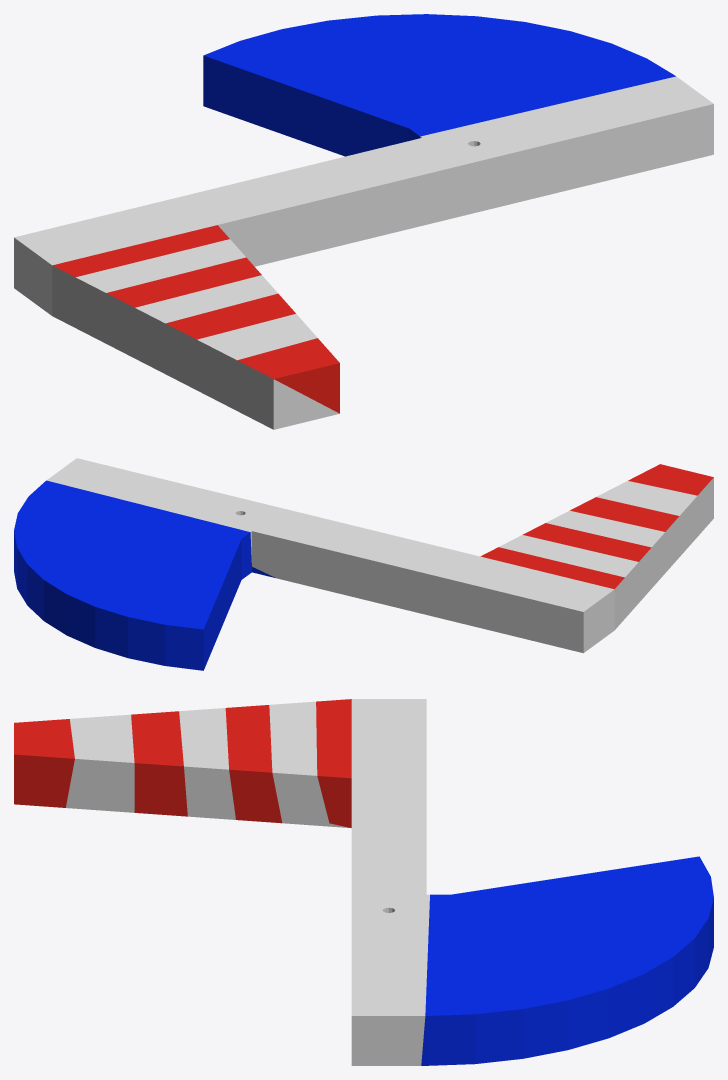
Rendered from manchon_bleu.dae.
3 renders of one model, top to bottom at view 1: azimuth 30°, elevation 25°; view 2: azimuth 150°, elevation 25°; view 3: azimuth 270°, elevation 25°, orthographic. The views are drawn at different scales.
Visible parts, largest first — view 1: Manchon Bleu, Manchon Bleu.001, Manchon Bleu.002, Manchon Bleu.007, Manchon Bleu.006, Manchon Bleu.008, Manchon Bleu.005, Manchon Bleu.003, Manchon Bleu.004; view 2: Manchon Bleu, Manchon Bleu.001, Manchon Bleu.007, Manchon Bleu.006, Manchon Bleu.008, Manchon Bleu.005, Manchon Bleu.003, Manchon Bleu.004, Manchon Bleu.002; view 3: Manchon Bleu.001, Manchon Bleu, Manchon Bleu.003, Manchon Bleu.007, Manchon Bleu.004, Manchon Bleu.006, Manchon Bleu.005, Manchon Bleu.002, Manchon Bleu.008.
Boxes of the visible parts, x1,y1,x2,y2 form: Manchon Bleu: (14,76,713,429); Manchon Bleu.001: (203,14,675,156); Manchon Bleu.002: (237,338,339,413); Manchon Bleu.007: (76,239,245,292); Manchon Bleu.006: (106,257,261,307); Manchon Bleu.008: (52,225,229,277); Manchon Bleu.005: (135,275,277,323); Manchon Bleu.003: (197,314,317,360); Manchon Bleu.004: (165,293,295,339); Manchon Bleu: (46,458,713,653); Manchon Bleu.001: (14,480,275,670); Manchon Bleu.007: (499,535,638,577); Manchon Bleu.006: (522,523,651,561); Manchon Bleu.008: (480,547,624,589); Manchon Bleu.005: (546,510,664,547); Manchon Bleu.003: (596,481,696,515); Manchon Bleu.004: (570,497,679,531); Manchon Bleu.002: (628,464,713,495); Manchon Bleu.001: (421,856,713,1065); Manchon Bleu: (351,699,429,1065); Manchon Bleu.003: (66,714,134,812); Manchon Bleu.007: (269,701,349,827); Manchon Bleu.004: (131,711,187,816); Manchon Bleu.006: (225,705,282,823); Manchon Bleu.005: (179,708,235,819); Manchon Bleu.002: (14,719,74,807); Manchon Bleu.008: (316,699,351,827).
Size of the model in its own units: 0.3 by 0.28 by 0.022.
